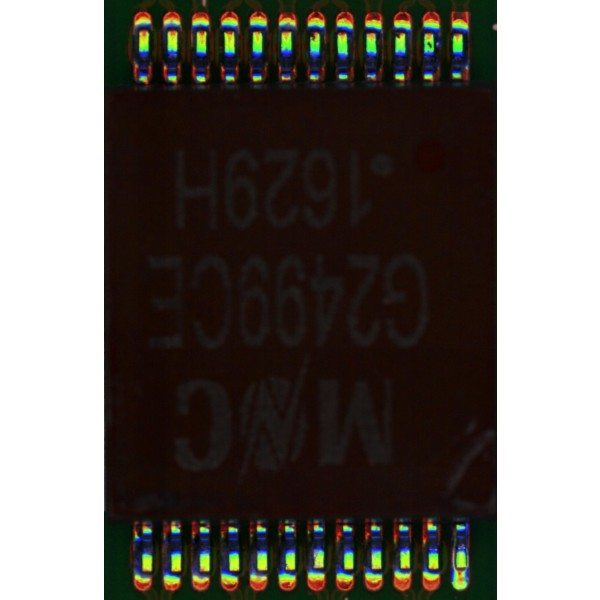Bad_podu: (457, 562, 465, 578)
Bad_qiaojiao: (452, 533, 456, 569)
